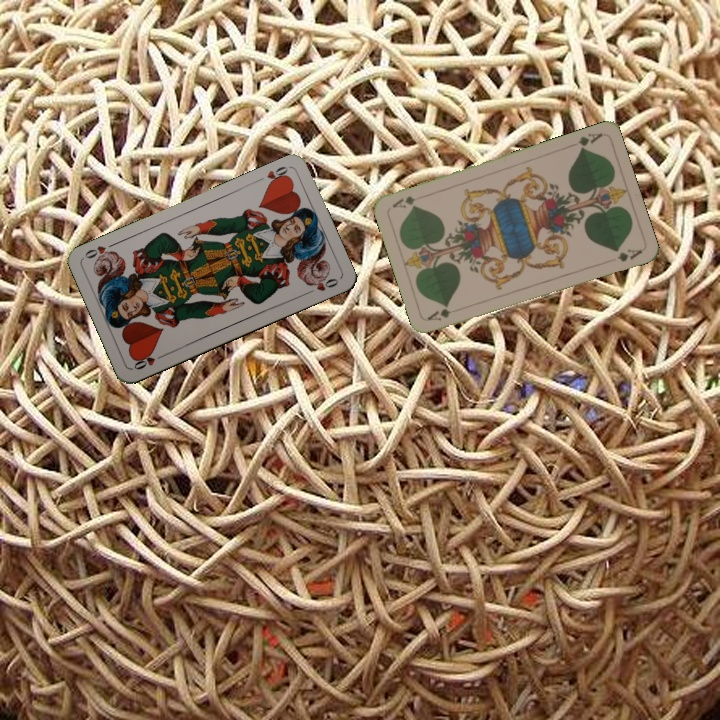GA: (574, 128, 605, 153), (424, 304, 453, 323)
HO: (130, 350, 168, 372), (263, 162, 292, 188)
